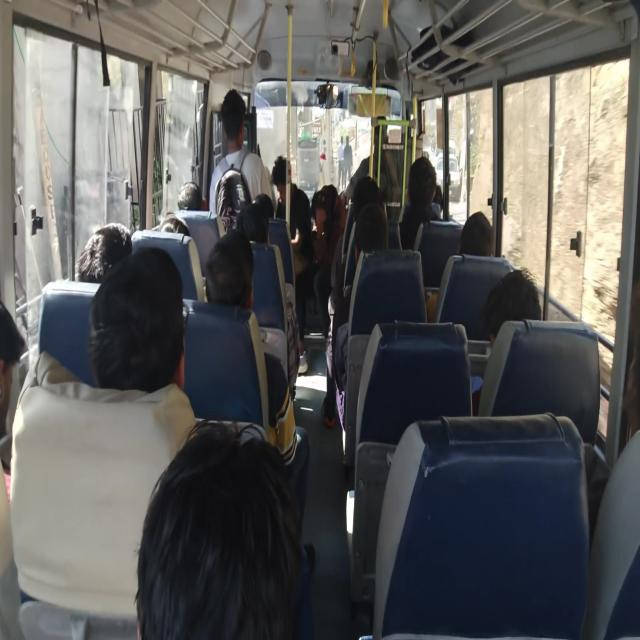person: (156, 408, 264, 596), (87, 271, 156, 363), (0, 279, 42, 425), (456, 206, 537, 279), (508, 236, 556, 335), (72, 226, 142, 290), (215, 245, 254, 321), (175, 183, 215, 239), (151, 211, 189, 267), (260, 150, 300, 202), (225, 203, 271, 247), (402, 164, 440, 212), (301, 186, 344, 228), (350, 201, 392, 244), (214, 88, 246, 144), (246, 194, 282, 224), (349, 176, 377, 202), (431, 157, 442, 208)
